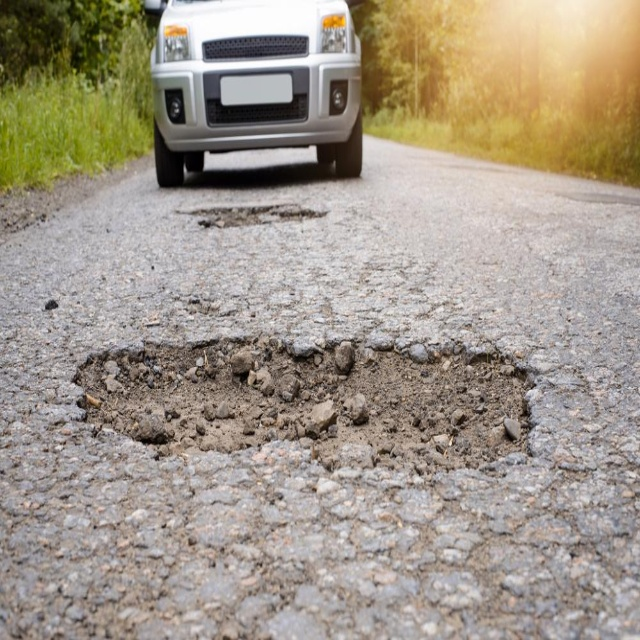pothole: (70, 334, 535, 485)
